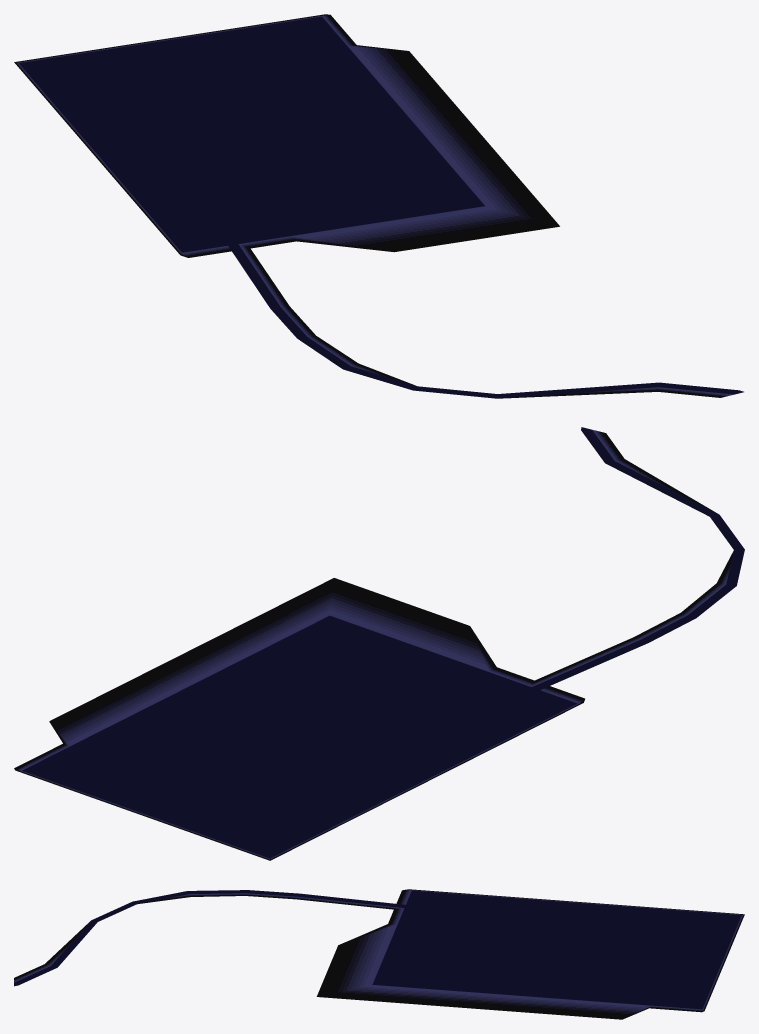
3 renders of one model, top to bottom at view 1: azimuth 30°, elevation 25°; view 2: azimuth 150°, elevation 25°; view 3: azimuth 270°, elevation 25°, orthographic. The views are drawn at different scales.
Visible parts, largest first — view 1: Joint_0_Object_0; view 2: Joint_0_Object_0; view 3: Joint_0_Object_0.
Boxes of the visible parts, box(x1,y1,x2,y2) form: Joint_0_Object_0: box(14, 14, 743, 398); Joint_0_Object_0: box(14, 427, 744, 860); Joint_0_Object_0: box(14, 889, 744, 1019).
Size of the model in its own units: 995 by 0 by 2355.
1 material, 1 textured.
